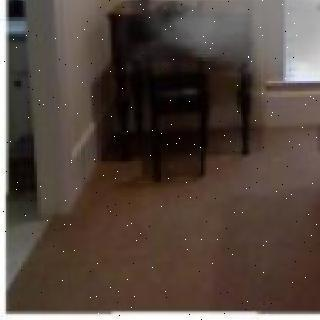smoke: (118, 0, 320, 66)
